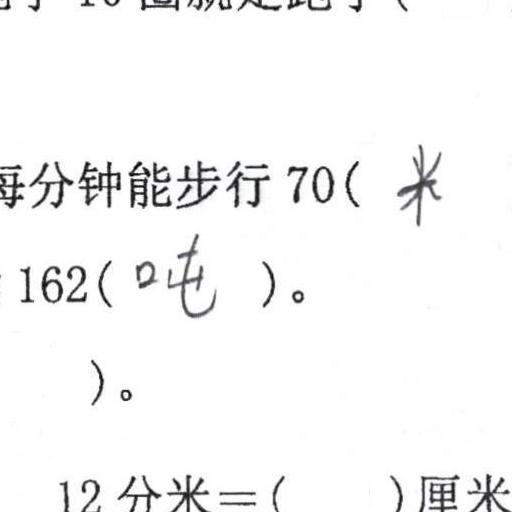ans: (132, 230, 221, 319), (393, 139, 447, 229)
